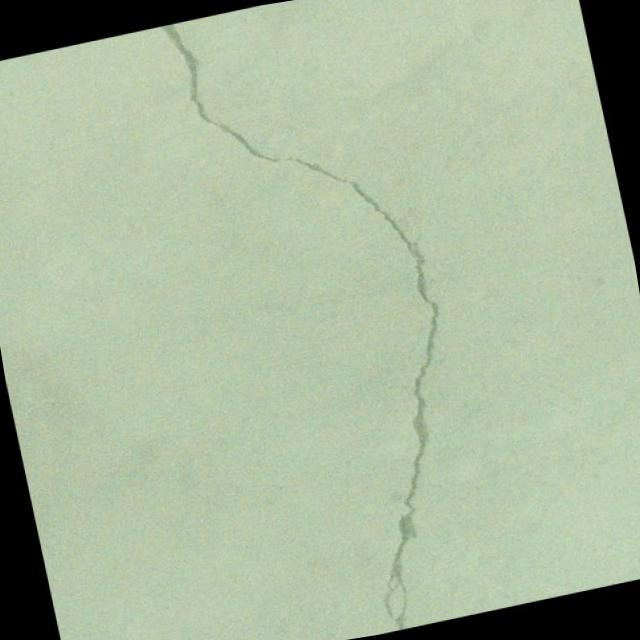crack: (158, 0, 505, 640)
